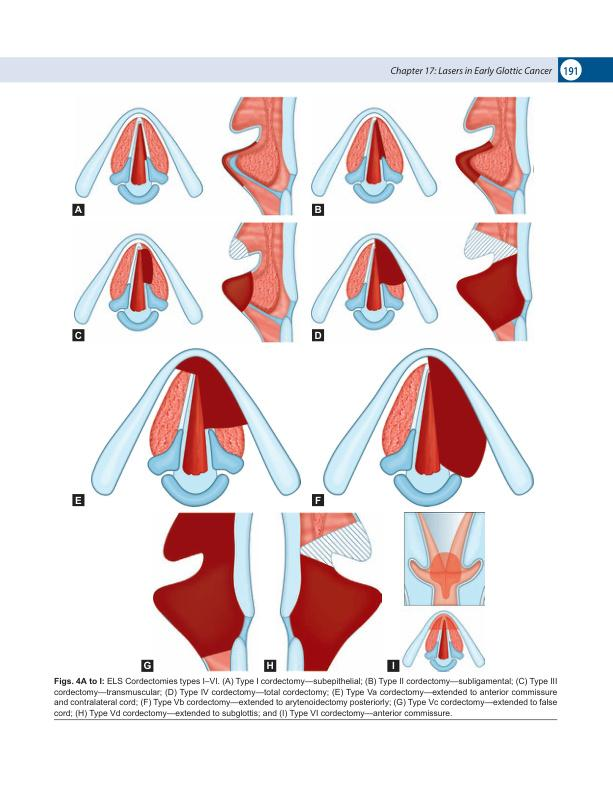caption: (53, 677, 558, 719), (72, 329, 84, 341), (312, 330, 324, 341), (73, 494, 84, 506), (73, 205, 83, 216), (313, 204, 323, 215), (265, 660, 275, 671), (313, 496, 323, 506), (143, 660, 152, 671), (388, 660, 397, 671)
header: (389, 66, 553, 76)
image: (58, 86, 550, 676), (66, 346, 304, 509), (307, 345, 541, 509), (67, 219, 302, 344), (306, 219, 536, 344), (67, 94, 300, 217), (309, 94, 536, 216), (261, 510, 385, 673), (135, 511, 258, 674), (386, 510, 504, 674)
